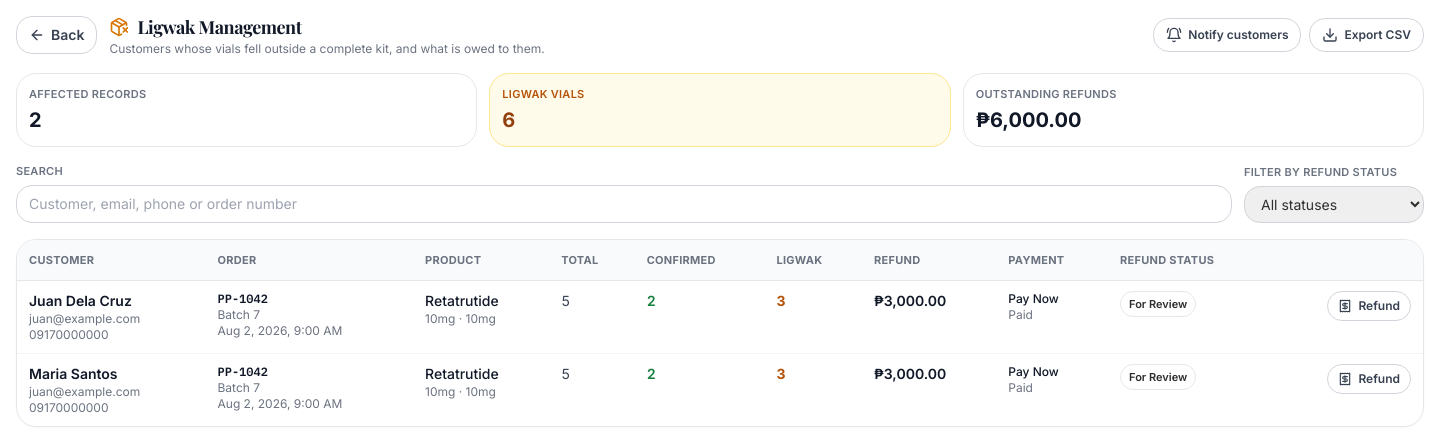
Test case: LigwakManager › searches by customer, email or order number
Type "Maria" into the search field labelled "Search" at (624, 204), box [16,185,1232,223]
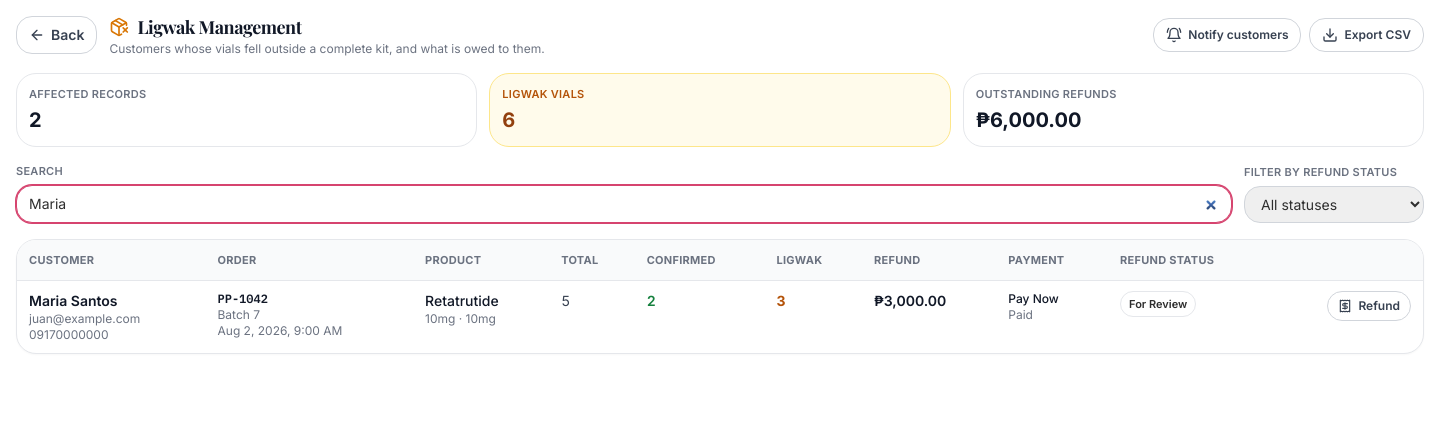
expect the text "Maria Santos" is shown: met, box [29,291,118,311]
expect the text "Juan Dela Cruz" is gone: met
